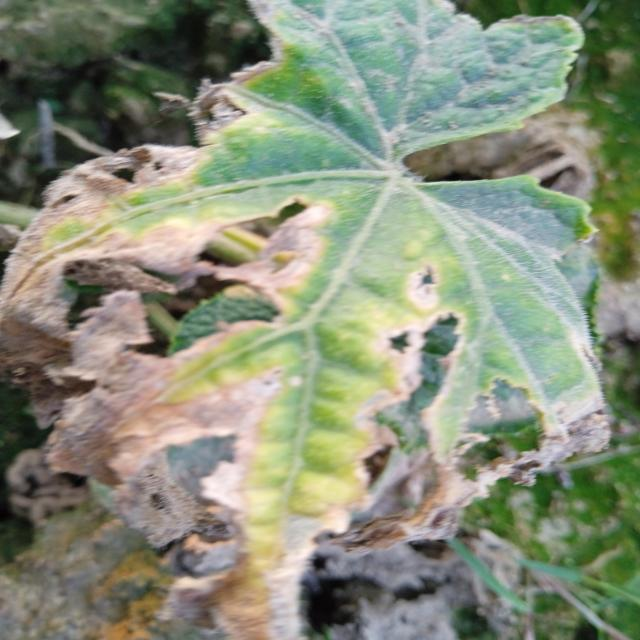cucumber_anthracnose: (13, 17, 596, 541)
